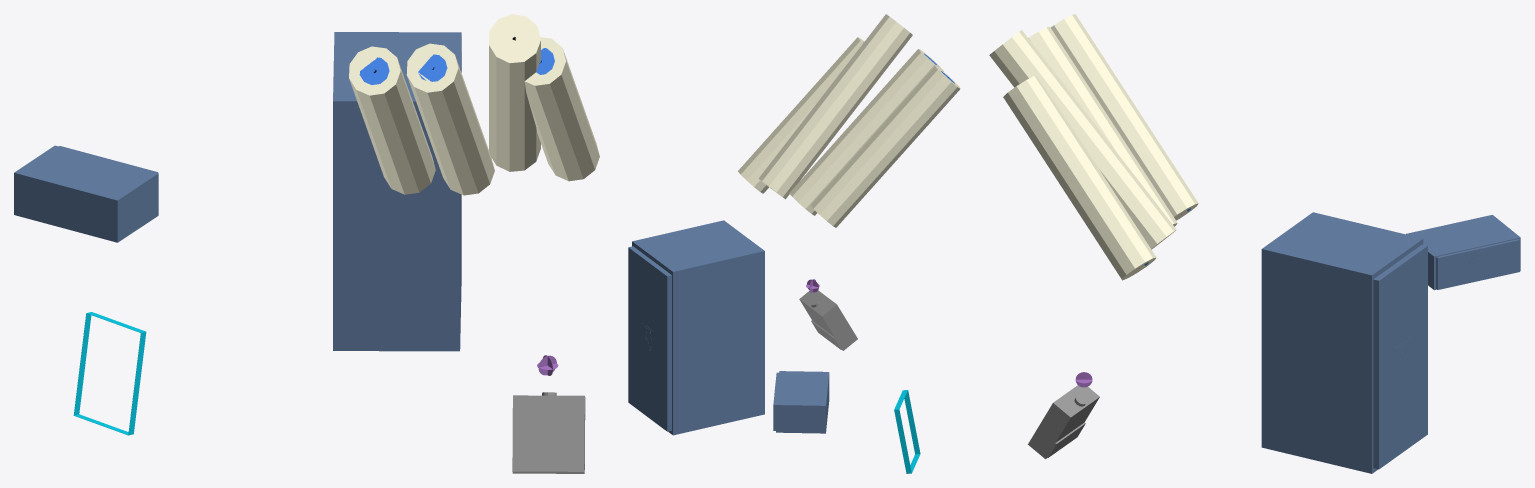
Rendered from tile_222.glb.
The picture shows the model from 3 angles, left to right: view 1: azimuth 30°, elevation 25°; view 2: azimuth 150°, elevation 25°; view 3: azimuth 270°, elevation 25°; orthographic projection. The views are drawn at different scales.
Size of the model in its own units: 2.23 by 2.57 by 3.15.
